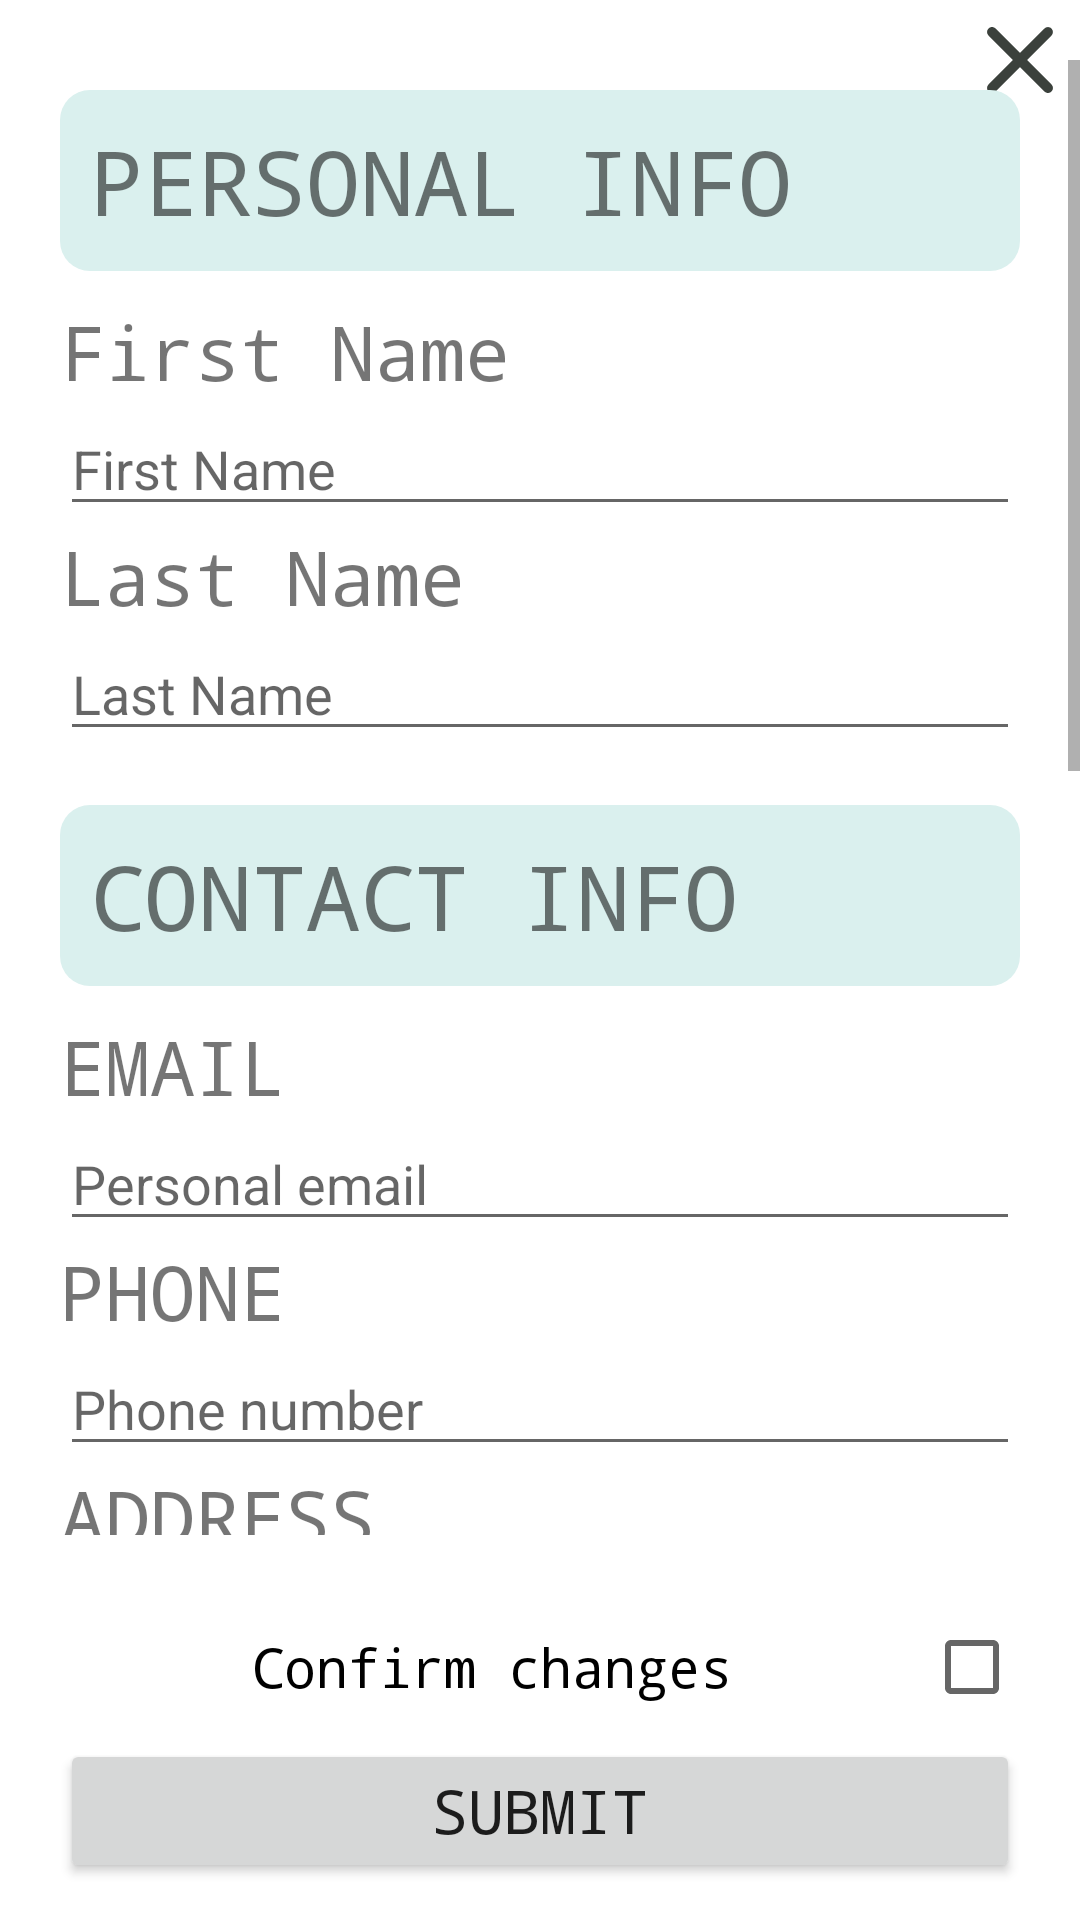

Icon click points for this 1080px×1920px phone screenshot, format (x,y):
close: (1020,60)
